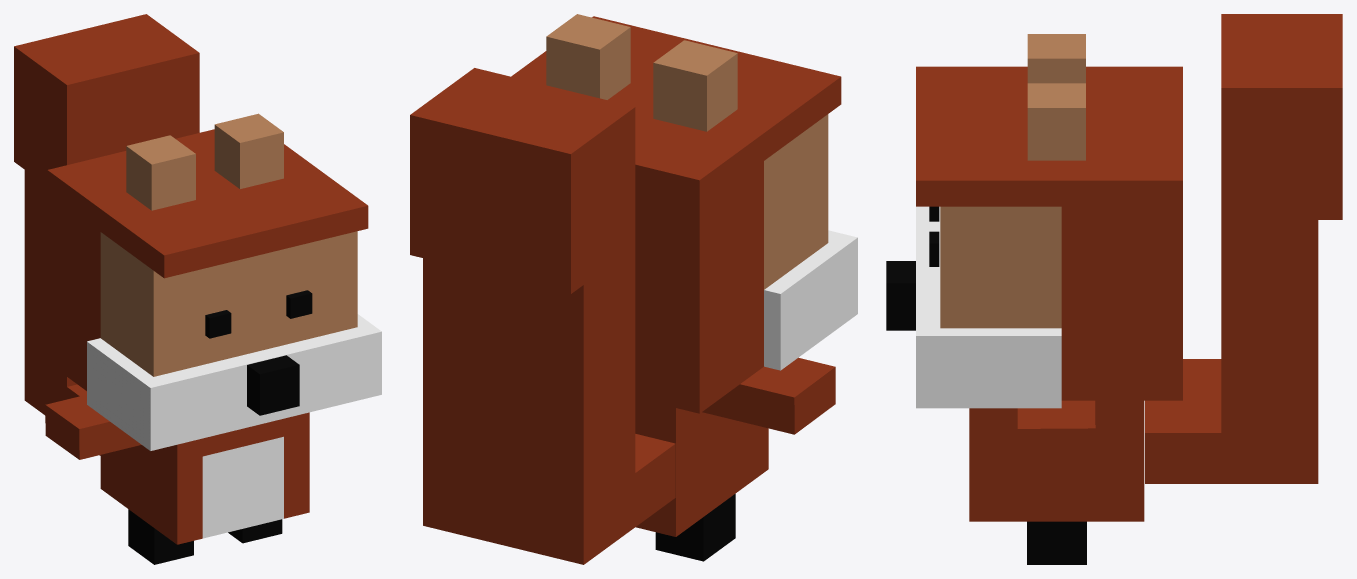
File: squirrel.FBX
3 renders of one model, left to right at view 1: azimuth 30°, elevation 25°; view 2: azimuth 150°, elevation 25°; view 3: azimuth 270°, elevation 25°, orthographic. The views are drawn at different scales.
Visible parts, largest first — view 1: squirrel_head, squirrel_tail, squirrel_body, squirrel_ear_L, squirrel_ear_R, squirrel_arm_R, squirrel_nose, squirrel_leg_R, squirrel_eyes, squirrel_leg_L; view 2: squirrel_tail, squirrel_head, squirrel_body, squirrel_ear_R, squirrel_arm_R, squirrel_ear_L, squirrel_leg_R; view 3: squirrel_head, squirrel_tail, squirrel_body, squirrel_arm_L, squirrel_ear_L, squirrel_ear_R, squirrel_leg_L, squirrel_nose, squirrel_eyes.
Boxes of the visible parts, left/top/right/bottom form: squirrel_head: left=47, top=129, right=381, bottom=450; squirrel_tail: left=14, top=14, right=199, bottom=455; squirrel_body: left=100, top=412, right=309, bottom=544; squirrel_ear_L: left=214, top=113, right=283, bottom=188; squirrel_ear_R: left=126, top=135, right=195, bottom=210; squirrel_arm_R: left=45, top=394, right=141, bottom=459; squirrel_nose: left=247, top=355, right=299, bottom=415; squirrel_leg_R: left=128, top=509, right=193, bottom=564; squirrel_eyes: left=205, top=290, right=312, bottom=338; squirrel_leg_L: left=228, top=519, right=282, bottom=543; squirrel_tail: left=410, top=68, right=675, bottom=564; squirrel_head: left=511, top=16, right=857, bottom=413; squirrel_body: left=635, top=398, right=768, bottom=536; squirrel_ear_R: left=653, top=40, right=737, bottom=131; squirrel_arm_R: left=702, top=357, right=835, bottom=434; squirrel_ear_L: left=546, top=14, right=630, bottom=99; squirrel_leg_R: left=655, top=494, right=735, bottom=561; squirrel_head: left=916, top=66, right=1182, bottom=408; squirrel_tail: left=1145, top=14, right=1342, bottom=483; squirrel_body: left=969, top=400, right=1144, bottom=521; squirrel_arm_L: left=1017, top=400, right=1095, bottom=464; squirrel_ear_L: left=1027, top=83, right=1085, bottom=160; squirrel_ear_R: left=1027, top=34, right=1085, bottom=83; squirrel_leg_L: left=1027, top=521, right=1086, bottom=564; squirrel_nose: left=886, top=261, right=915, bottom=330; squirrel_eyes: left=929, top=206, right=939, bottom=266.
Bounding box in the file's own units: 77.61 × 109 × 93.94.
